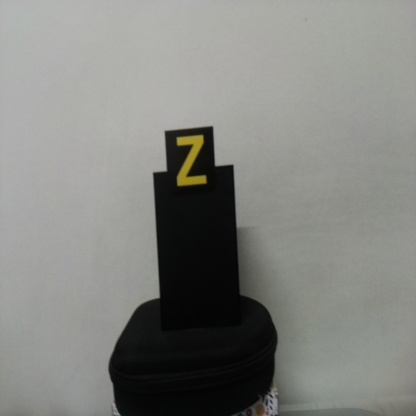id_15: (165, 130, 215, 194)
